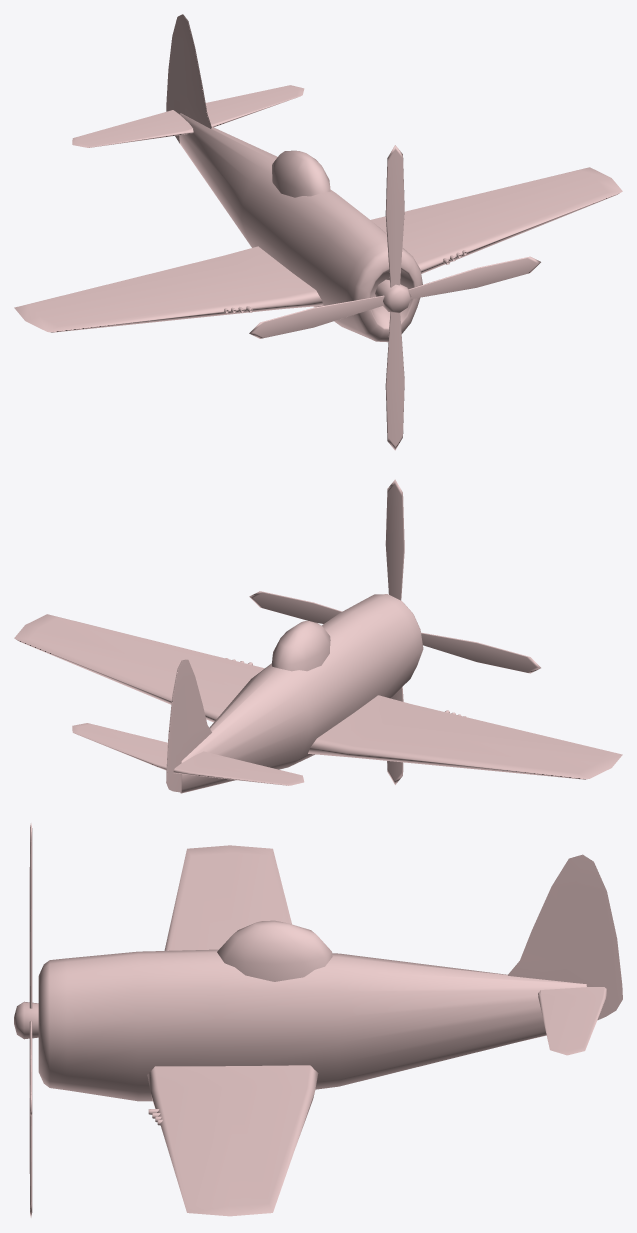
Rendered from Player.fbx.
The picture shows the model from 3 angles, top to bottom: view 1: azimuth 30°, elevation 25°; view 2: azimuth 150°, elevation 25°; view 3: azimuth 270°, elevation 25°; orthographic projection. The views are drawn at different scales.
Visible parts, largest first — view 1: AvionJugador, Aspas; view 2: AvionJugador, Aspas; view 3: AvionJugador, Aspas.
Part boxes in pixels (<box>): AvionJugador: <box>14,14,622,342</box>; Aspas: <box>249,145,540,450</box>; AvionJugador: <box>14,594,622,793</box>; Aspas: <box>249,479,540,784</box>; AvionJugador: <box>14,845,622,1216</box>; Aspas: <box>29,823,32,1217</box>.
Bounding box in the file's own units: 4.2 × 2.1 × 2.92.
